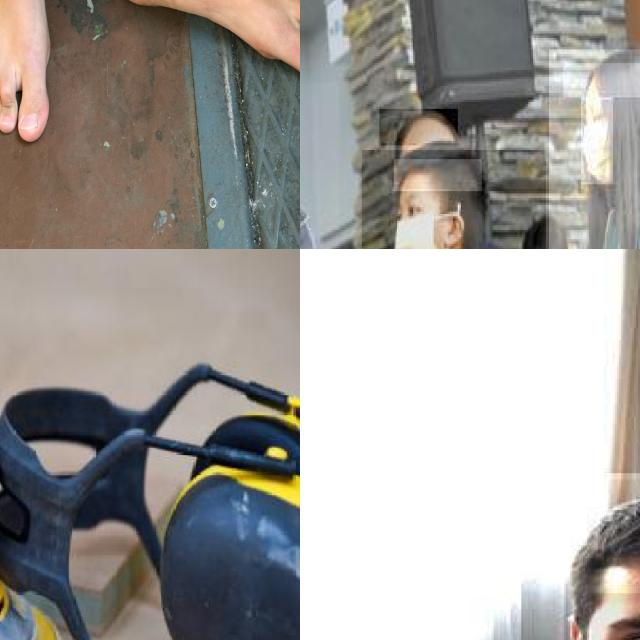Barefoots: (109, 0, 300, 81), (0, 0, 50, 142)
Ear-protection: (40, 355, 300, 640)
No_Ear-Protection: (558, 607, 600, 640), (442, 207, 463, 248)
face_mask: (392, 189, 448, 249), (581, 98, 615, 186)
head_nohelmet: (587, 479, 640, 602), (394, 138, 483, 194), (577, 42, 640, 99)
person: (323, 473, 640, 640), (361, 150, 547, 249), (548, 49, 640, 249)
